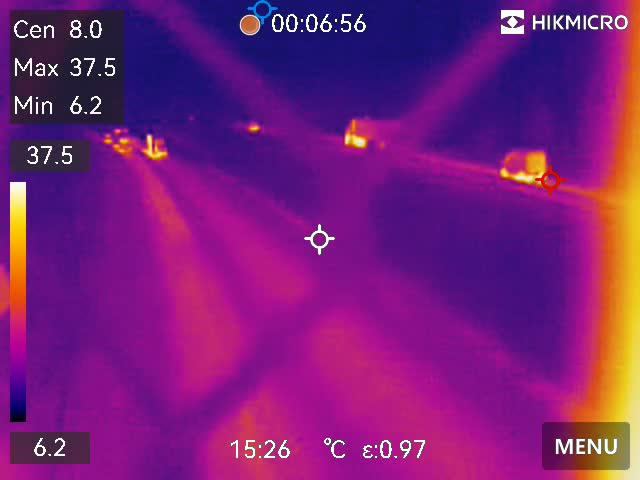heavyTruck: (330, 114, 403, 146)
